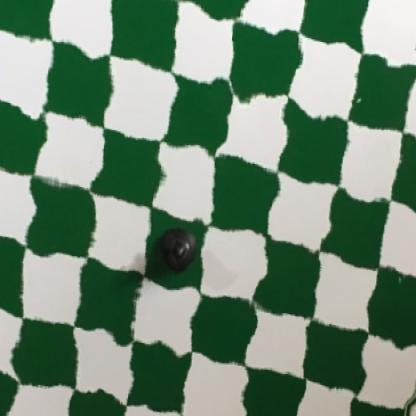black-pawn: (154, 216, 203, 280)
